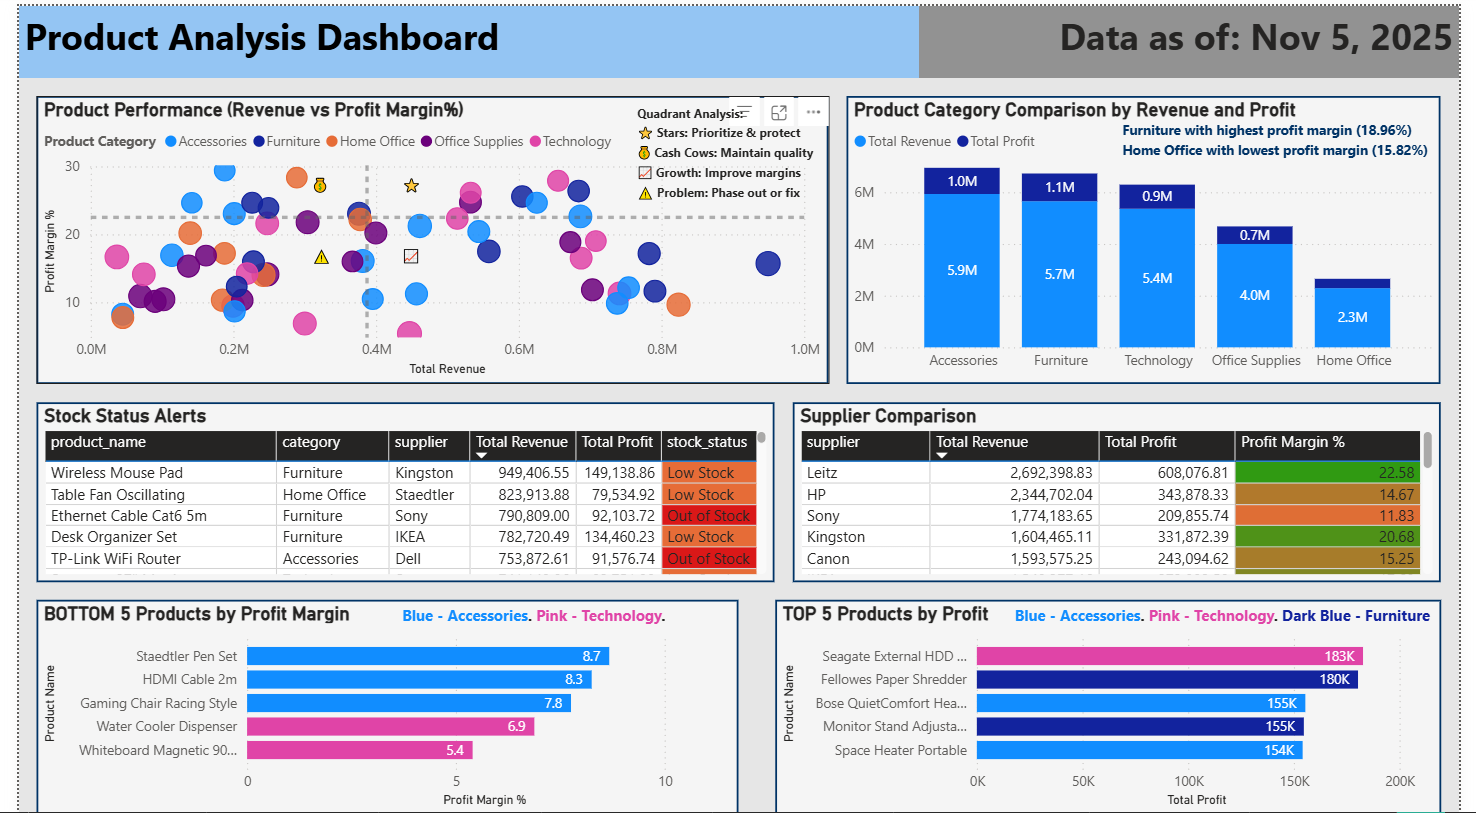

What the dashboard file says about the page in this screenshot:
{"tool":"powerbi","page":{"name":"Product Analysis","canvas":[1280,720],"ordinal":2},"visuals":[{"type":"textbox","box":[0,0,800,64],"z":0},{"type":"textbox","box":[800,0,480,64],"z":1000},{"type":"scatterChart","title":"Product Performance (Revenue vs Profit Margin%)","fields":{"X":["fact_sales.Total Revenue"],"Y":["fact_sales.Profit Margin %"],"Series":["fact_sales.product_category"],"Size":["fact_sales.Total Quantity Sold"],"Category":["products.product_name"]},"box":[16,80,704,256],"z":2000},{"type":"columnChart","title":"Product Category Comparison by Revenue and Profit","fields":{"Category":["fact_sales.product_category"],"Y":["fact_sales.Total Revenue","fact_sales.Total Profit"]},"box":[736,80,528,256],"z":3000},{"type":"tableEx","title":"Stock Status Alerts","fields":{"Values":["products.product_name","products.category","products.supplier","fact_sales.Total Revenue","fact_sales.Total Profit","products.stock_status"]},"box":[16,352,656,160],"z":4000},{"type":"clusteredBarChart","title":"TOP 5 Products by Profit","fields":{"Y":["fact_sales.Total Profit"],"Category":["products.product_name"]},"box":[672,528,592,192],"z":5000},{"type":"textbox","box":[880,528,400,32],"z":6000},{"type":"clusteredBarChart","title":"BOTTOM 5 Products  by Profit Margin","fields":{"Y":["fact_sales.Profit Margin %"],"Category":["products.product_name"]},"box":[16,528,624,192],"z":7000},{"type":"textbox","box":[336,528,256,32],"z":8000},{"type":"tableEx","title":"Supplier Comparison","fields":{"Values":["products.supplier","fact_sales.Total Revenue","fact_sales.Total Profit","fact_sales.Profit Margin %"]},"box":[688,352,576,160],"z":9000},{"type":"textbox","box":[976,96,304,64],"z":10000},{"type":"textbox","box":[544,80,176,112],"z":11000},{"type":"textbox","box":[336,144,32,32],"z":12000},{"type":"textbox","box":[336,208,32,32],"z":13000},{"type":"textbox","box":[256,144,32,32],"z":14000},{"type":"textbox","box":[256,208,32,32],"z":15000}]}

Visuals, with their boxes in screenshot pixels (x1, y1, x2, y2), scaled from the page's 1280x720 canvas onto the 1476x813 screenshot:
textbox: 0, 0, 922, 72
textbox: 922, 0, 1475, 72
"Product Performance (Revenue vs Profit Margin%)" scatterChart: 18, 90, 830, 379
"Product Category Comparison by Revenue and Profit" columnChart: 849, 90, 1458, 379
"Stock Status Alerts" tableEx: 18, 397, 775, 578
"TOP 5 Products by Profit" clusteredBarChart: 775, 596, 1458, 812
textbox: 1015, 596, 1475, 632
"BOTTOM 5 Products  by Profit Margin" clusteredBarChart: 18, 596, 738, 812
textbox: 387, 596, 683, 632
"Supplier Comparison" tableEx: 793, 397, 1458, 578
textbox: 1125, 108, 1475, 181
textbox: 627, 90, 830, 217
textbox: 387, 163, 424, 199
textbox: 387, 235, 424, 271
textbox: 295, 163, 332, 199
textbox: 295, 235, 332, 271
